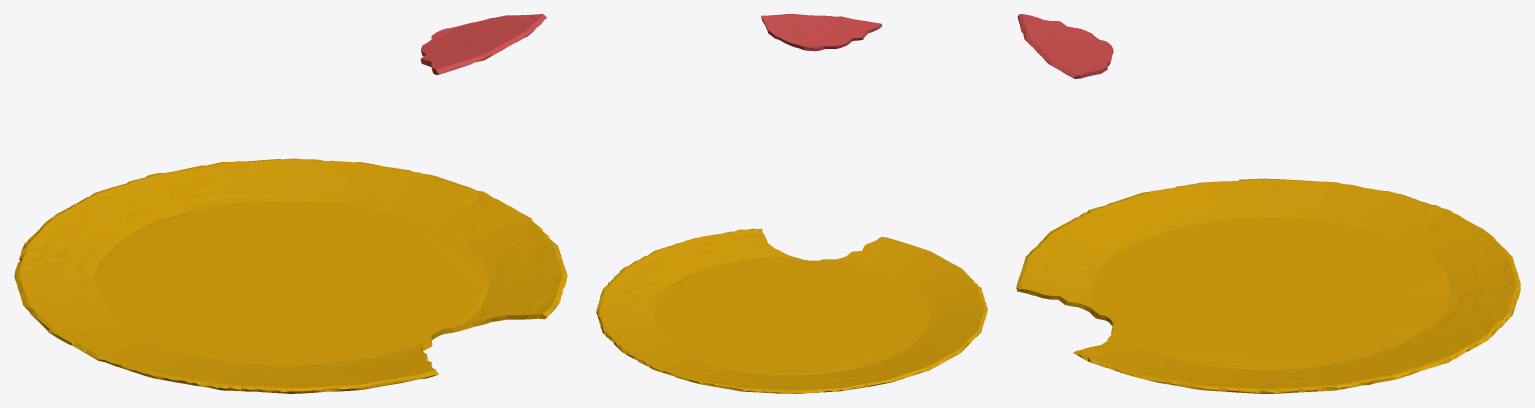
Rendered from fractured_35_2pcs_transformed.glb.
3 views of the same model, side by side, from view 1: azimuth 30°, elevation 25°; view 2: azimuth 150°, elevation 25°; view 3: azimuth 270°, elevation 25° (orthographic). The views are drawn at different scales.
Parts seen in each view (by area): view 1: piece_0.obj, piece_1.obj; view 2: piece_0.obj, piece_1.obj; view 3: piece_0.obj, piece_1.obj.
Part boxes in pixels (x1=…): piece_0.obj: x1=14, y1=158, x2=567, y2=393; piece_1.obj: x1=420, y1=14, x2=546, y2=74; piece_0.obj: x1=596, y1=228, x2=987, y2=393; piece_1.obj: x1=761, y1=14, x2=881, y2=51; piece_0.obj: x1=1016, y1=178, x2=1520, y2=393; piece_1.obj: x1=1017, y1=14, x2=1113, y2=78.
Bounding box in the file's own units: 1 × 0.6295 × 0.998.
